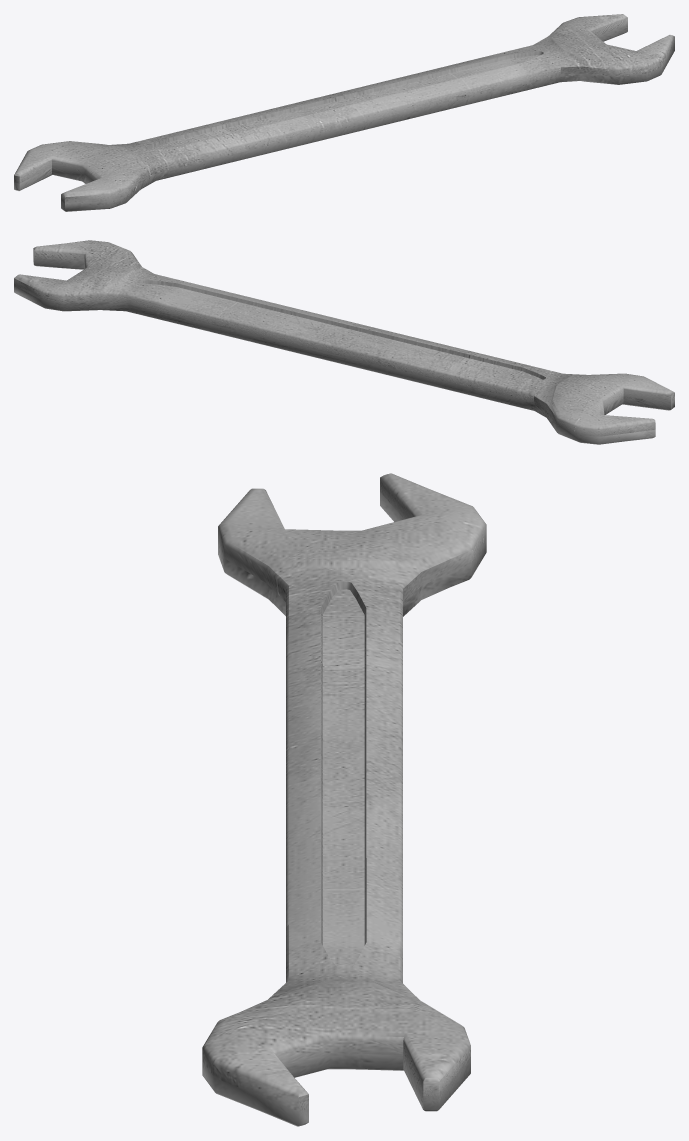
The model's file is Wrench02.FBX.
The picture shows the model from 3 angles, top to bottom: view 1: azimuth 30°, elevation 25°; view 2: azimuth 150°, elevation 25°; view 3: azimuth 270°, elevation 25°; orthographic projection. The views are drawn at different scales.
Visible parts, largest first — view 1: Wrench02_LOD0; view 2: Wrench02_LOD0; view 3: Wrench02_LOD0.
Part boxes in pixels (box(x1,y1,x2,y2)): Wrench02_LOD0: box(14, 14, 674, 211); Wrench02_LOD0: box(14, 240, 674, 444); Wrench02_LOD0: box(202, 473, 486, 1126).
Size of what is drawn, in the model's own units: 15.23 by 0.6628 by 2.94.
